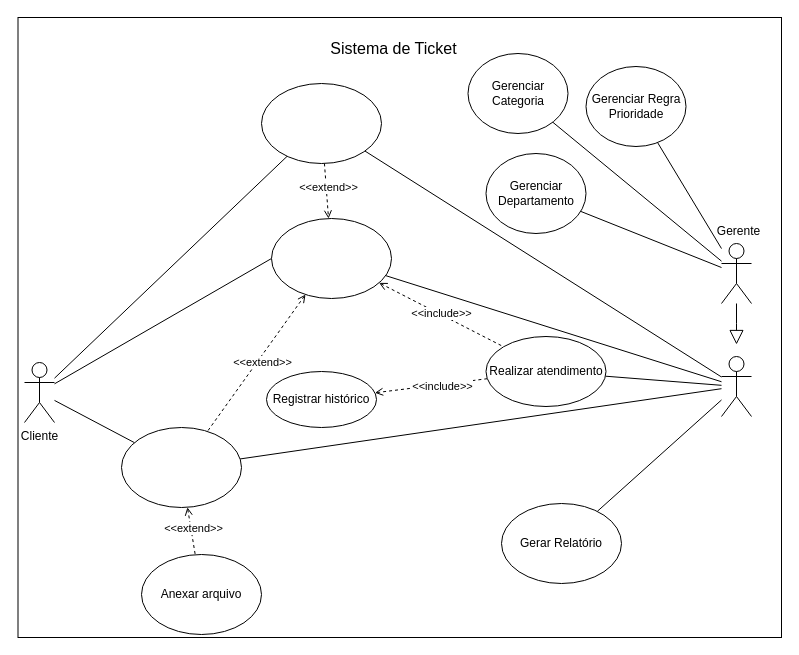
The diagram is 799 pixels wide and 655 high, and some of its shapes have lost their labels. Each missing label, with the centre of its shape:
"Fazer Comentário" belongs at (x=181, y=467).
"Funcionário" belongs at (x=736, y=386).
"Gerenciar ticket" belongs at (x=331, y=258).
"Realizar cadastro" belongs at (x=321, y=123).
